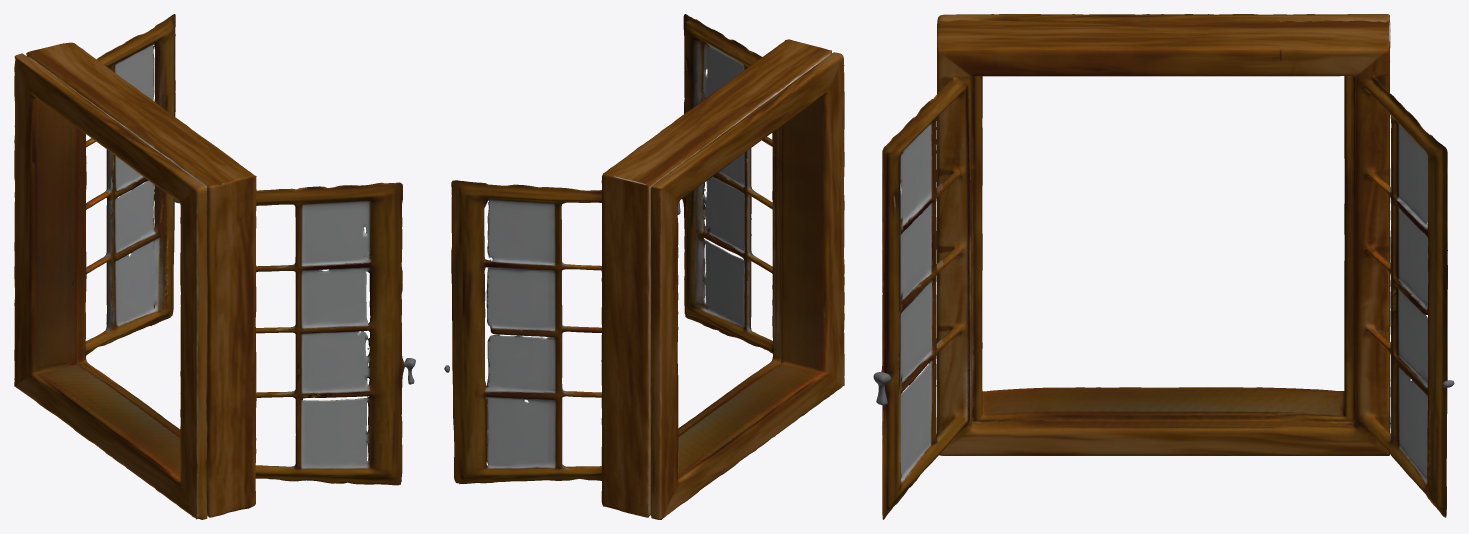
The model's file is ventana+de+madera+3d+modelo.fbx.
The picture shows the model from 3 angles, left to right: view 1: azimuth 30°, elevation 25°; view 2: azimuth 150°, elevation 25°; view 3: azimuth 270°, elevation 25°; orthographic projection. The views are drawn at different scales.
Parts seen in each view (by area): view 1: tripo_node_c64c55fb; view 2: tripo_node_c64c55fb; view 3: tripo_node_c64c55fb.
Part boxes in pixels (bbox=[...]): tripo_node_c64c55fb: bbox=[14, 14, 415, 519]; tripo_node_c64c55fb: bbox=[444, 14, 844, 519]; tripo_node_c64c55fb: bbox=[873, 14, 1454, 519].
Size of the model in its own units: 0.4795 by 0.7757 by 0.9987.
1 material, 1 textured.
